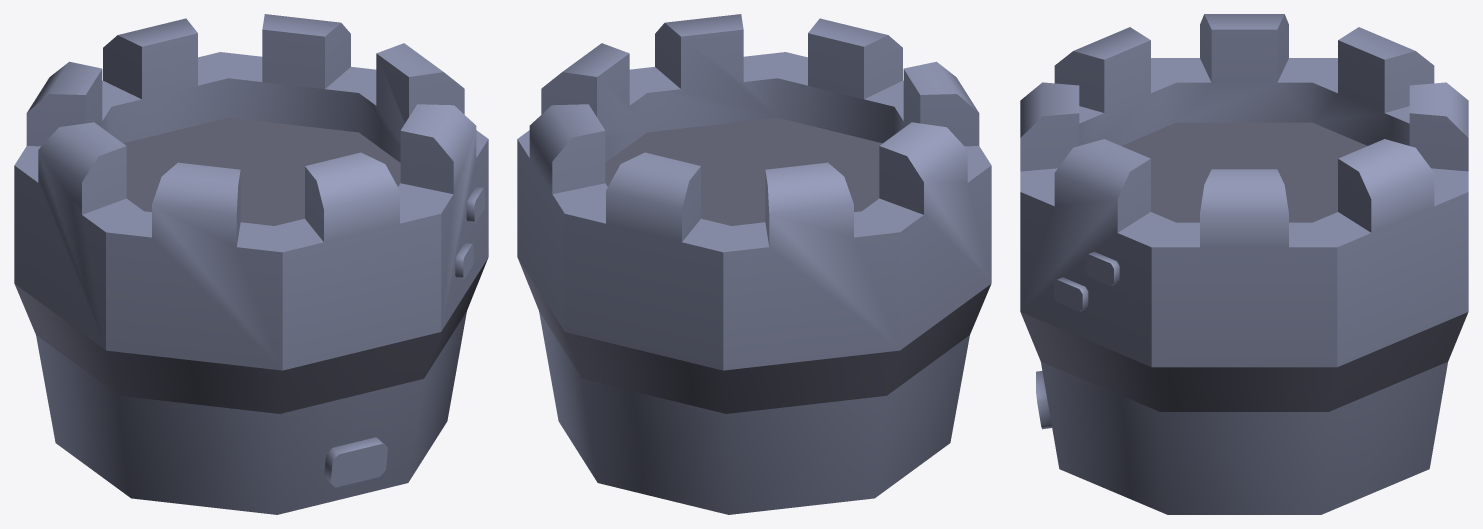
The model's file is tower-top.glb.
3 renders of one model, left to right at view 1: azimuth 30°, elevation 25°; view 2: azimuth 150°, elevation 25°; view 3: azimuth 270°, elevation 25°, orthographic.
Visible parts, largest first — view 1: tower-top; view 2: tower-top; view 3: tower-top.
Boxes of the visible parts, left/top/right/bottom form: tower-top: left=14, top=14, right=488, bottom=514; tower-top: left=517, top=14, right=991, bottom=514; tower-top: left=1020, top=14, right=1468, bottom=514.
Bounding box in the file's own units: 3.35 × 2.79 × 3.35.
